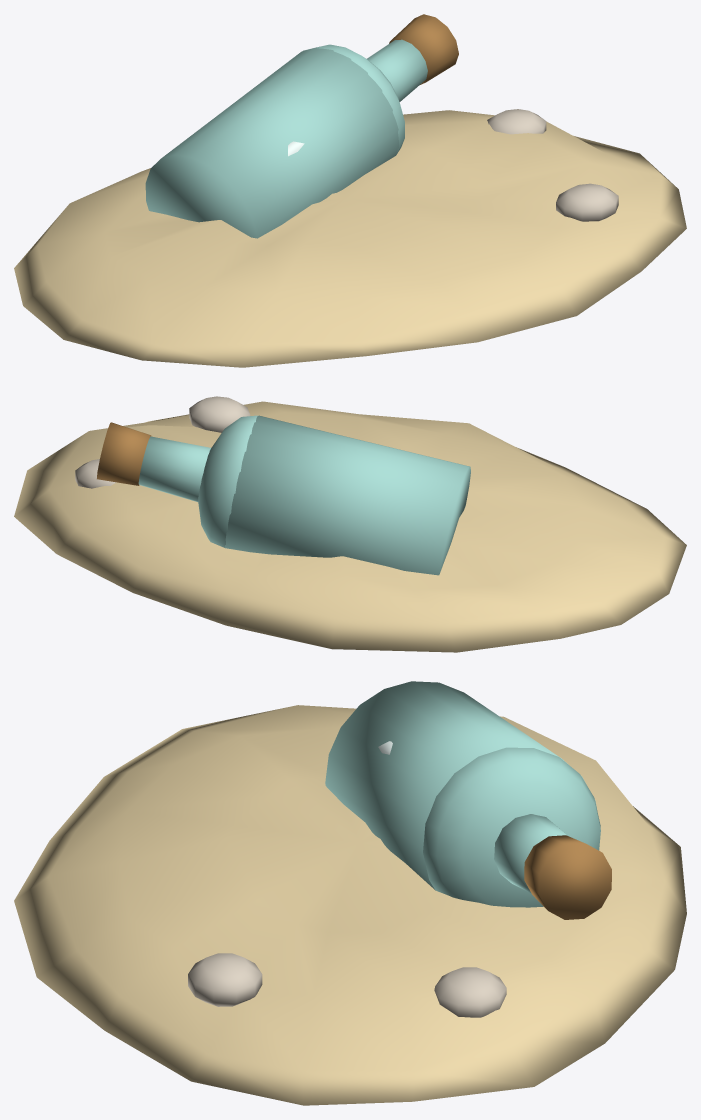
Rendered from sea-bottle.glb.
The picture shows the model from 3 angles, top to bottom: view 1: azimuth 30°, elevation 25°; view 2: azimuth 150°, elevation 25°; view 3: azimuth 270°, elevation 25°; orthographic projection. The views are drawn at different scales.
Visible parts, largest first — view 1: bottle; view 2: bottle; view 3: bottle.
Boxes of the visible parts, x1,y1,x2,y2 form: bottle: [14, 14, 686, 367]; bottle: [14, 396, 686, 652]; bottle: [14, 681, 686, 1105].
Bounding box in the file's own units: 0.8295 × 0.2137 × 0.6053.
